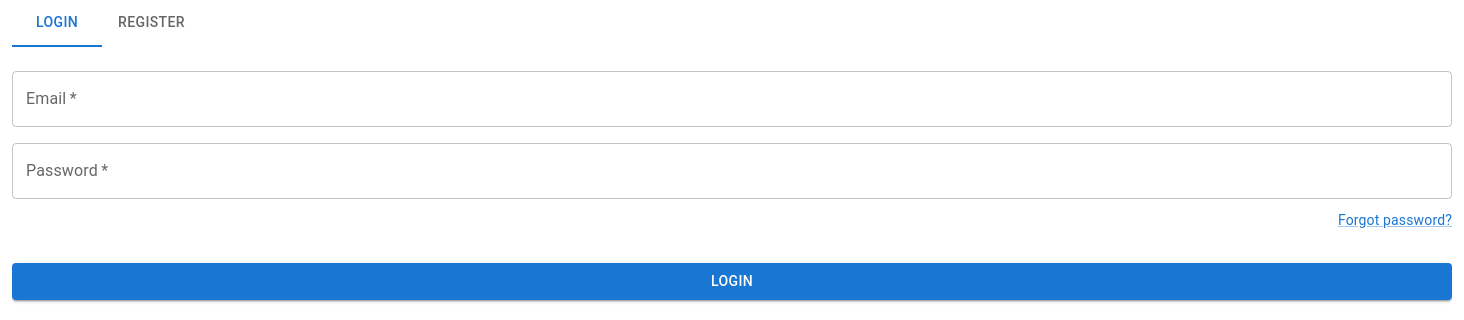
Test: LoginForm › should disable submit button when loading
This screenshot has width=1464, height=320.
Type "test@example.com" into the field labelled "Email *" at (732, 99), box [12, 71, 1452, 127]
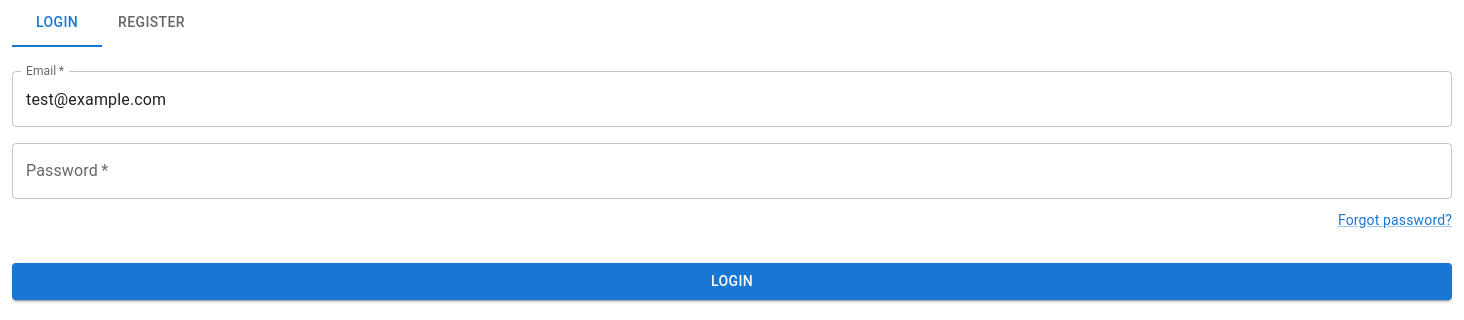
Type "password123" into the password field labelled "Password *" at (732, 171), box [12, 143, 1452, 199]
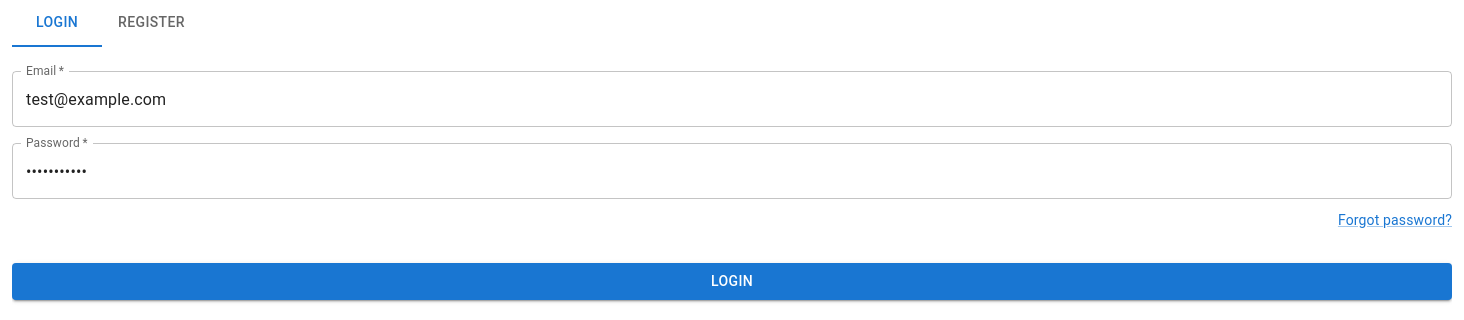
Click the button "Login" at (732, 281), box [12, 263, 1452, 300]
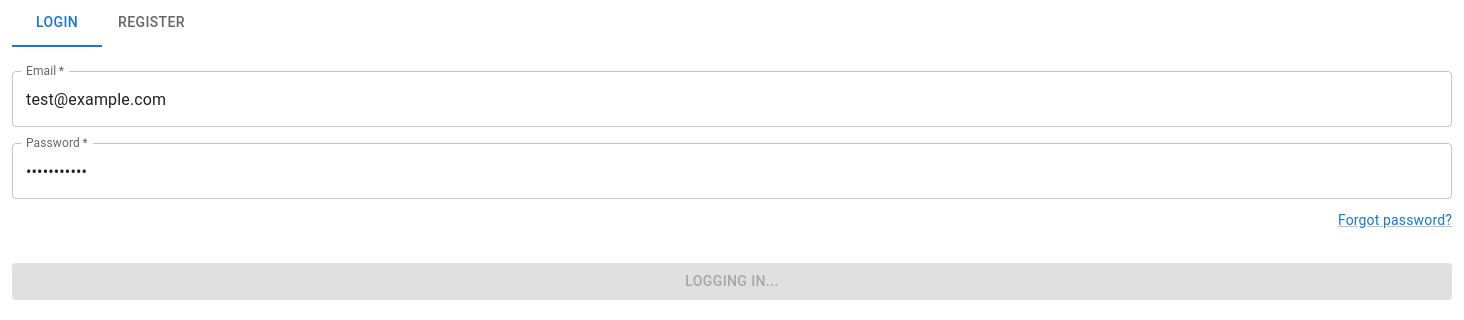
Check: the button "Logging in..." is disabled, box [12, 263, 1452, 300]
